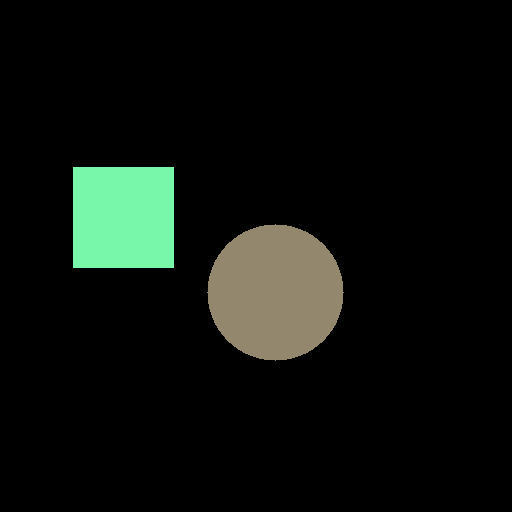circle: (207, 224, 343, 360)
square: (73, 167, 173, 267)
